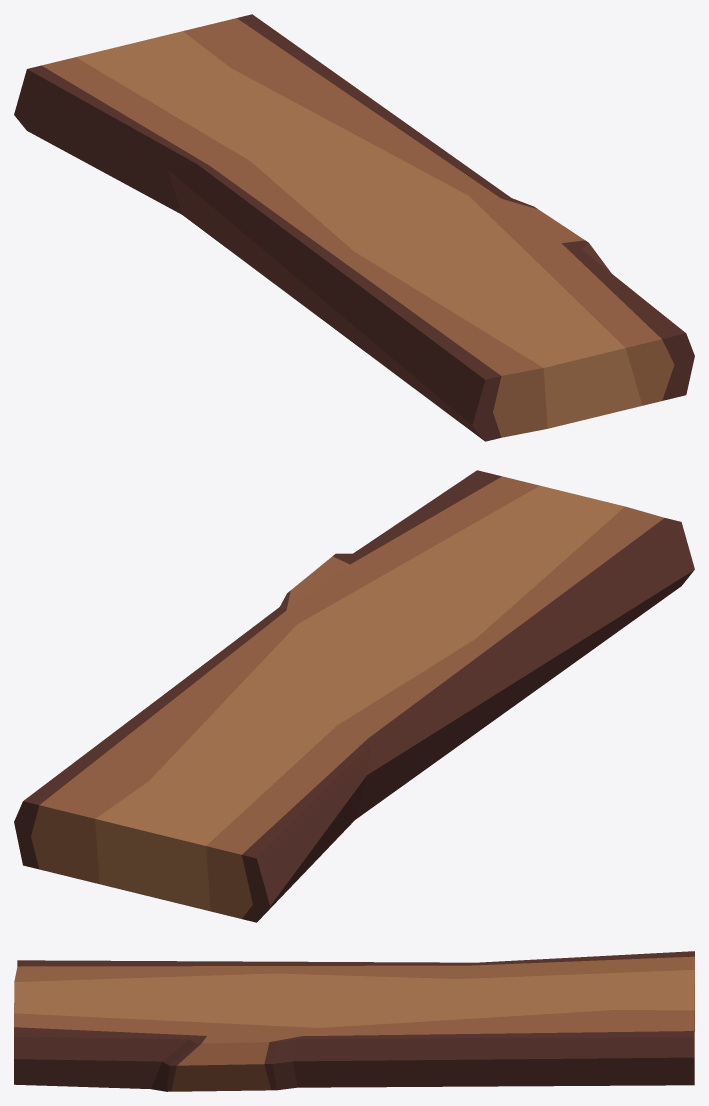
The model's file is plank_LOW.fbx.
3 views of the same model, one above another, from view 1: azimuth 30°, elevation 25°; view 2: azimuth 150°, elevation 25°; view 3: azimuth 270°, elevation 25° (orthographic). The views are drawn at different scales.
Visible parts, largest first — view 1: plank; view 2: plank; view 3: plank.
Boxes of the visible parts, x1,y1,x2,y2 form: plank: (14,14,694,441); plank: (14,470,694,922); plank: (14,951,694,1091).
Size of the model in its own units: 28.74 by 6.46 by 81.98.
